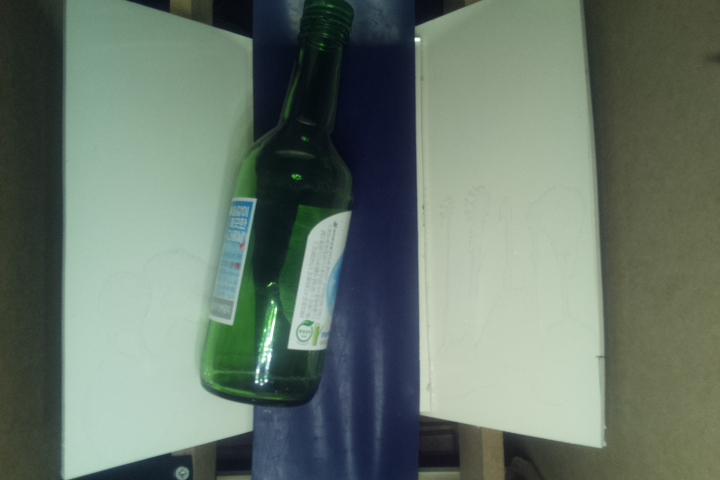soju: (200, 1, 366, 409)
